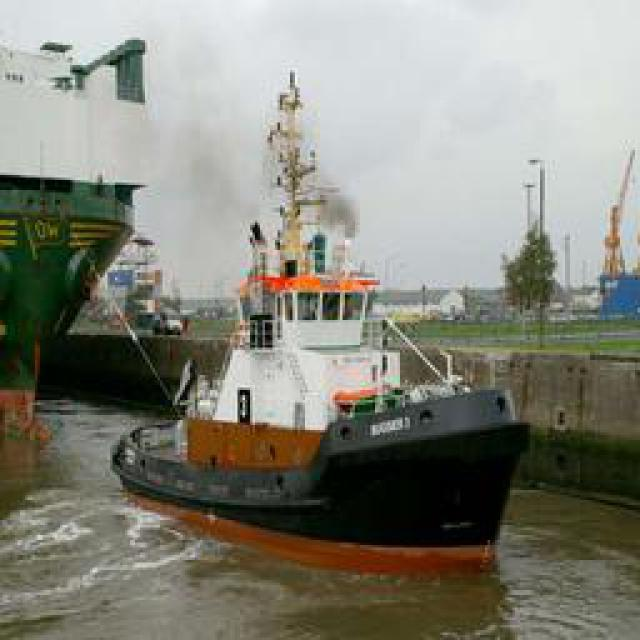Ship: (114, 59, 527, 532)
